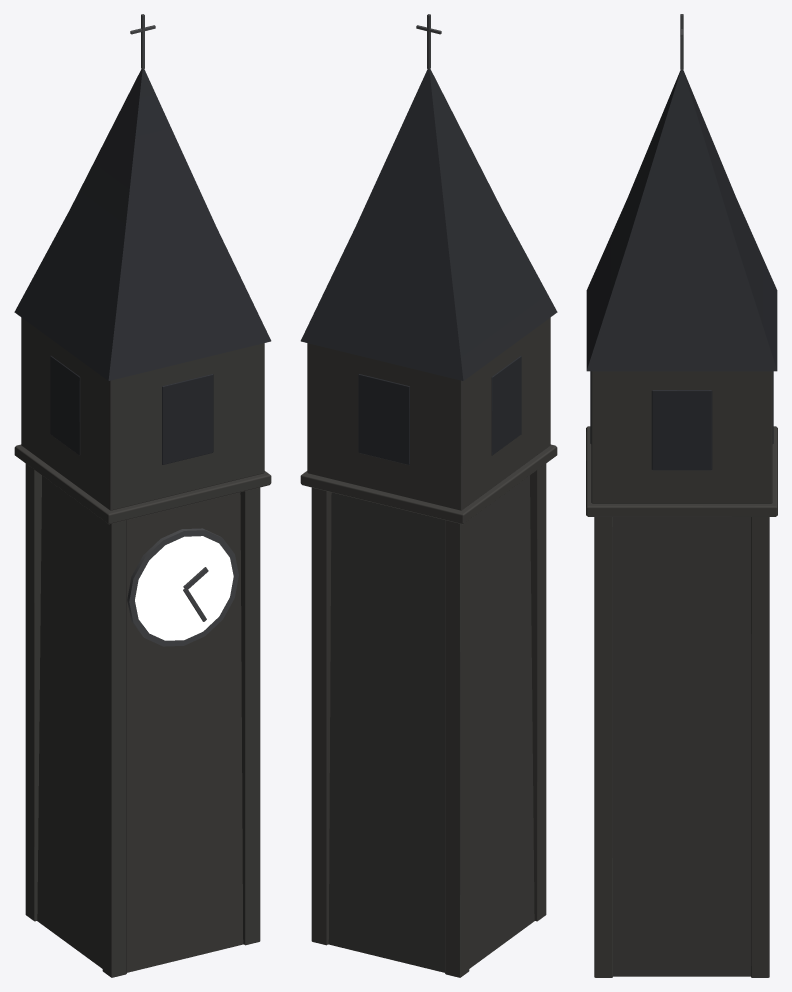
Rendered from landmark_clocher.glb.
3 renders of one model, left to right at view 1: azimuth 30°, elevation 25°; view 2: azimuth 150°, elevation 25°; view 3: azimuth 270°, elevation 25°, orthographic.
Parts seen in each view (by area): view 1: CLO_Fut, CLO_Fleche, CLO_Beffroi, CLO_Chainage_-1-1, CLO_Chainage_1-1, CLO_Cadran_Lit, CLO_Chainage_-11, CLO_Abatson_0, CLO_Corniche, CLO_Abatson_2, CLO_Cercle; view 2: CLO_Fut, CLO_Fleche, CLO_Beffroi, CLO_Chainage_-11, CLO_Chainage_11, CLO_Chainage_-1-1, CLO_Abatson_1, CLO_Corniche, CLO_Abatson_2; view 3: CLO_Fut, CLO_Fleche, CLO_Beffroi, CLO_Chainage_1-1, CLO_Chainage_11, CLO_Abatson_3, CLO_Corniche.
Part boxes in pixels (x1=…): CLO_Fut: x1=37, y1=475, x2=243, y2=972; CLO_Fleche: x1=14, y1=69, x2=271, y2=380; CLO_Beffroi: x1=21, y1=317, x2=264, y2=510; CLO_Chainage_-1-1: x1=102, y1=520, x2=126, y2=977; CLO_Chainage_1-1: x1=240, y1=487, x2=260, y2=945; CLO_Cadran_Lit: x1=135, y1=536, x2=233, y2=640; CLO_Chainage_-11: x1=25, y1=463, x2=41, y2=921; CLO_Abatson_0: x1=162, y1=374, x2=213, y2=464; CLO_Corniche: x1=14, y1=444, x2=271, y2=524; CLO_Abatson_2: x1=50, y1=356, x2=80, y2=455; CLO_Cercle: x1=127, y1=528, x2=238, y2=646; CLO_Fut: x1=328, y1=475, x2=534, y2=972; CLO_Fleche: x1=300, y1=69, x2=557, y2=380; CLO_Beffroi: x1=307, y1=317, x2=550, y2=510; CLO_Chainage_-11: x1=445, y1=520, x2=469, y2=977; CLO_Chainage_11: x1=311, y1=487, x2=331, y2=945; CLO_Chainage_-1-1: x1=530, y1=463, x2=546, y2=921; CLO_Abatson_1: x1=358, y1=374, x2=409, y2=464; CLO_Corniche: x1=300, y1=444, x2=557, y2=524; CLO_Abatson_2: x1=491, y1=356, x2=521, y2=455; CLO_Fut: x1=613, y1=517, x2=750, y2=976; CLO_Fleche: x1=586, y1=70, x2=777, y2=371; CLO_Beffroi: x1=591, y1=371, x2=772, y2=503; CLO_Chainage_1-1: x1=594, y1=517, x2=612, y2=977; CLO_Chainage_11: x1=751, y1=517, x2=769, y2=977; CLO_Abatson_3: x1=651, y1=390, x2=712, y2=470; CLO_Corniche: x1=586, y1=426, x2=777, y2=516.
Bounding box in the file's own units: 4.12 × 21.96 × 4.12.
